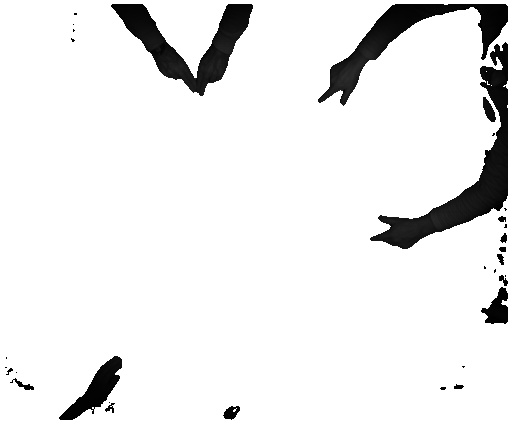hand: (312, 59, 364, 111), (368, 212, 422, 255), (86, 352, 127, 407), (154, 49, 198, 93), (198, 51, 239, 95)
